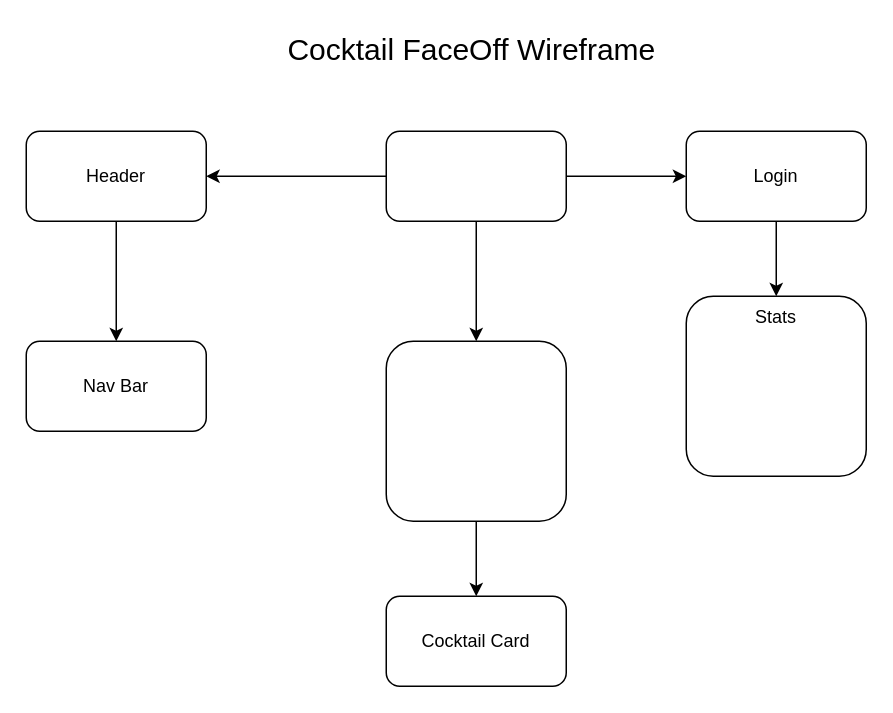
This 893x713 diagram has some shape labels left out. Here are the shapes that lost their labels. From the top down, the centre of each, then its label:
At point 475,175: "App".
At point 475,430: "Faceoff".
